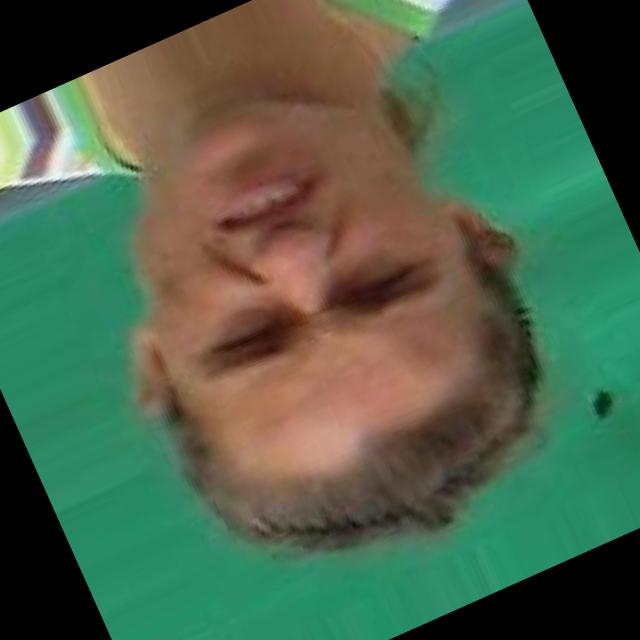bareface: (94, 51, 536, 515)
